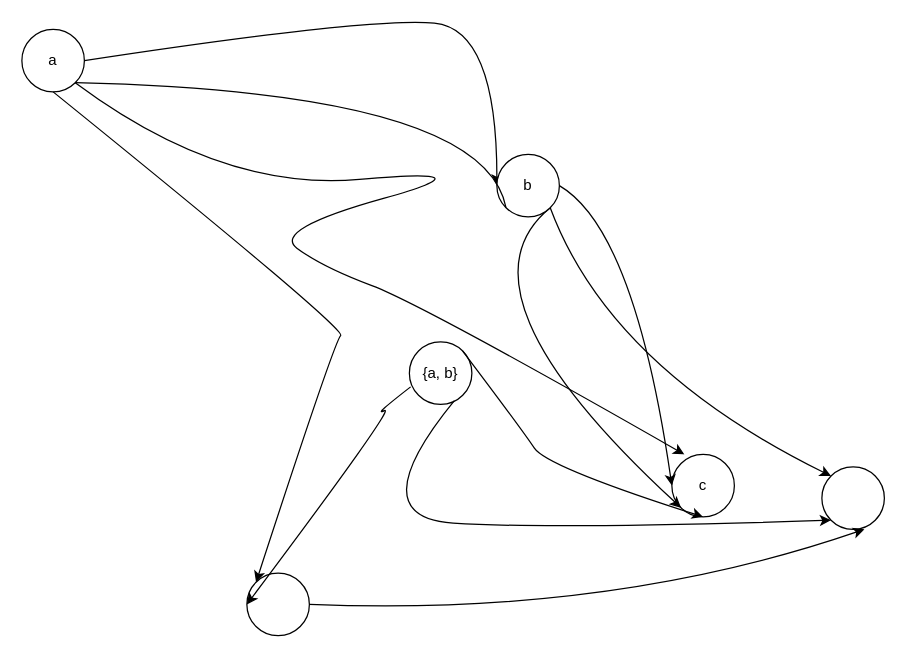
Some shapes in this 906 by 658 pixel diagram are drawn without their labels. The shapes that lost their labels are listed below. From the top down, each one's centre as x and y in pixels, then its label:
the point at 852,497: {a, c}
the point at 277,604: {b, c}
